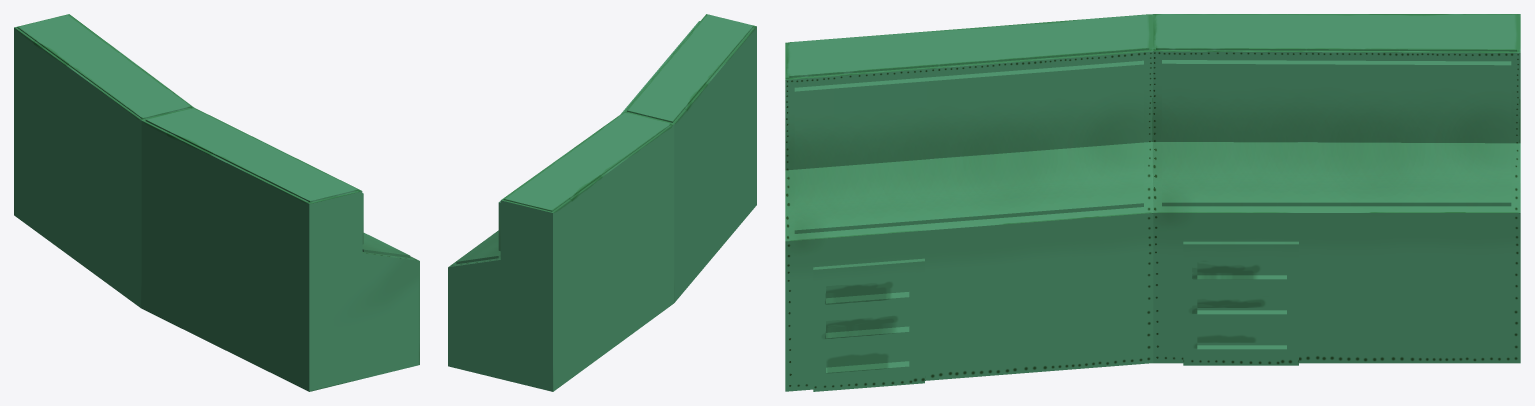
File: middle_console_04.glb
3 renders of one model, left to right at view 1: azimuth 30°, elevation 25°; view 2: azimuth 150°, elevation 25°; view 3: azimuth 270°, elevation 25°, orthographic. The views are drawn at different scales.
Visible parts, largest first — view 1: Cube.002; view 2: Cube.002; view 3: Cube.002.
Boxes of the visible parts, x1=… form: Cube.002: x1=14, y1=14, x2=419, y2=391; Cube.002: x1=448, y1=14, x2=756, y2=391; Cube.002: x1=785, y1=14, x2=1520, y2=391.
Size of the model in its own units: 1.51 by 1.8 by 4.4.
1 material, 1 textured.
